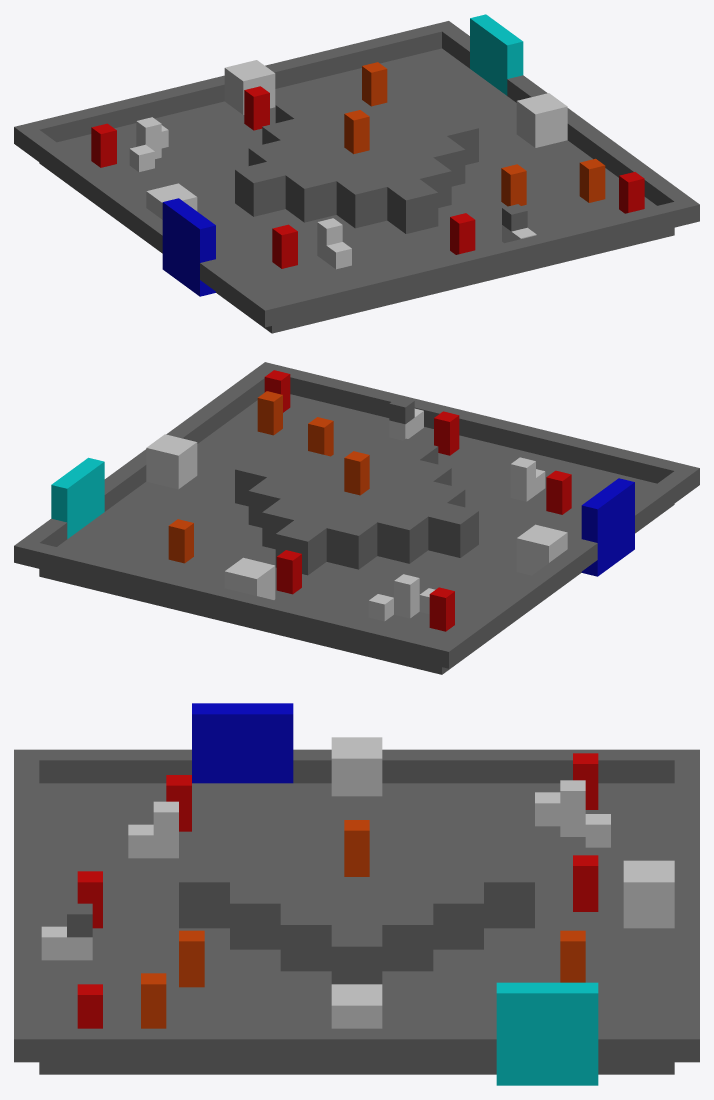
Rendered from level1_B1V2C_25.fbx.
3 views of the same model, one above another, from view 1: azimuth 30°, elevation 25°; view 2: azimuth 150°, elevation 25°; view 3: azimuth 270°, elevation 25° (orthographic). The views are drawn at different scales.
Visible parts, largest first — view 1: pCube3, pCube5, pCube4, pCube37, pCube36, Antena1, Antena, Stormtrooper3, Antena2, Stormtrooper2, Blurrg, Antena3 (+7 smaller); view 2: pCube3, pCube5, pCube4, pCube37, pCube38, pCube36, pCube46, Antena1, Stormtrooper3, Antena, Antena2, Stormtrooper2 (+6 smaller); view 3: pCube3, pCube4, pCube5, pCube36, pCube38, pCube37, Antena3, pCube46, Antena, Blurrg, Antena1, Antena2 (+11 smaller).
Boxes of the visible parts, x1,y1,x2,y2 form: pCube3: [14, 21, 699, 333]; pCube5: [162, 198, 215, 296]; pCube4: [470, 14, 523, 95]; pCube37: [516, 93, 567, 147]; pCube36: [224, 60, 275, 114]; Antena1: [579, 158, 605, 202]; Antena: [344, 110, 369, 154]; Stormtrooper3: [272, 224, 297, 268]; Antena2: [362, 62, 387, 106]; Stormtrooper2: [91, 123, 116, 167]; Blurrg: [244, 86, 269, 130]; Antena3: [501, 164, 526, 206]; pCube3: [14, 362, 699, 674]; pCube5: [581, 478, 634, 576]; pCube4: [51, 457, 104, 538]; pCube37: [146, 434, 197, 489]; pCube38: [516, 524, 567, 575]; pCube36: [224, 557, 275, 599]; pCube46: [394, 574, 419, 618]; Antena1: [257, 391, 282, 435]; Stormtrooper3: [546, 470, 571, 514]; Antena: [344, 451, 369, 495]; Antena2: [168, 519, 193, 563]; Stormtrooper2: [429, 587, 454, 631]; pCube3: [14, 749, 699, 1074]; pCube4: [496, 982, 598, 1085]; pCube5: [192, 703, 293, 783]; pCube36: [623, 860, 674, 928]; pCube38: [331, 737, 382, 796]; pCube37: [331, 984, 382, 1028]; Antena3: [179, 930, 204, 987]; pCube46: [560, 780, 585, 836]; Antena: [344, 820, 369, 876]; Blurrg: [573, 855, 598, 911]; Antena1: [141, 973, 166, 1028]; Antena2: [560, 930, 585, 982].
Bounding box in the file's own units: 1063 × 197 × 1063.
